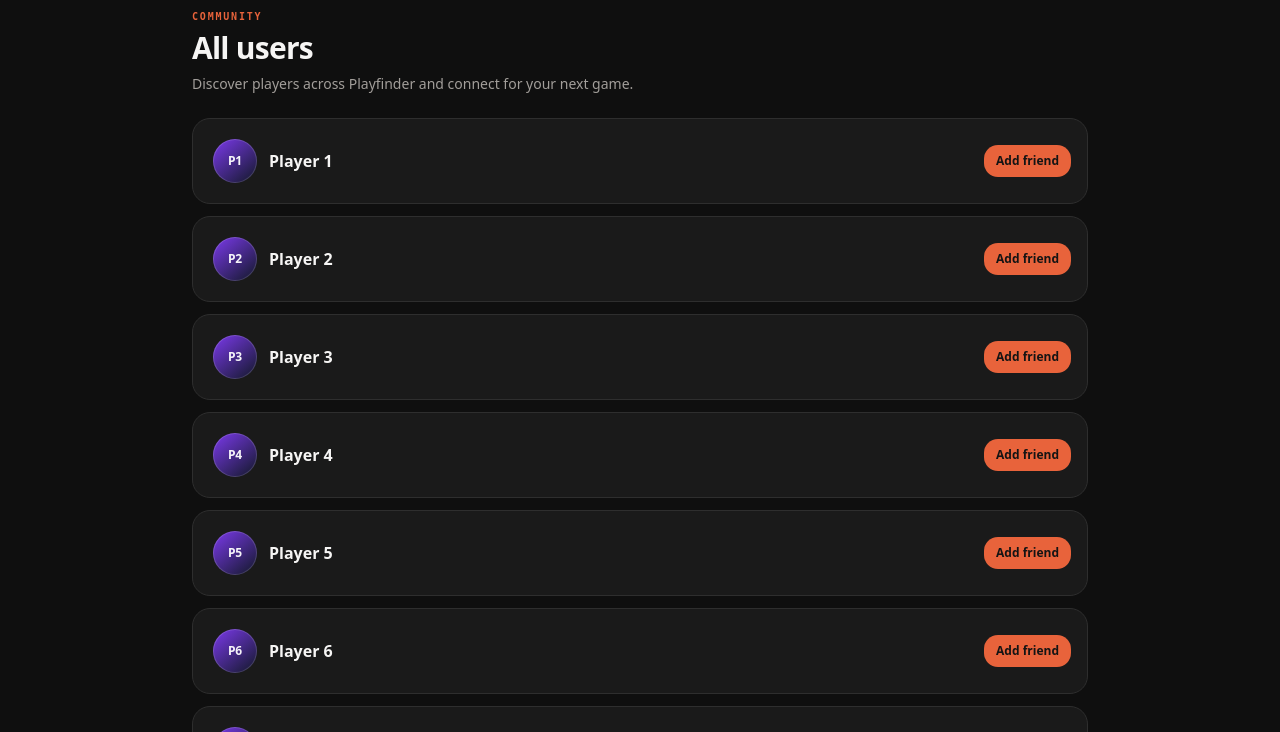
Test: All users directory › submits a friend request from a player card
The width and height of the screenshot is (1280, 732).
Click the 1st button "Add friend" at [1028, 161], box [984,145,1071,177]
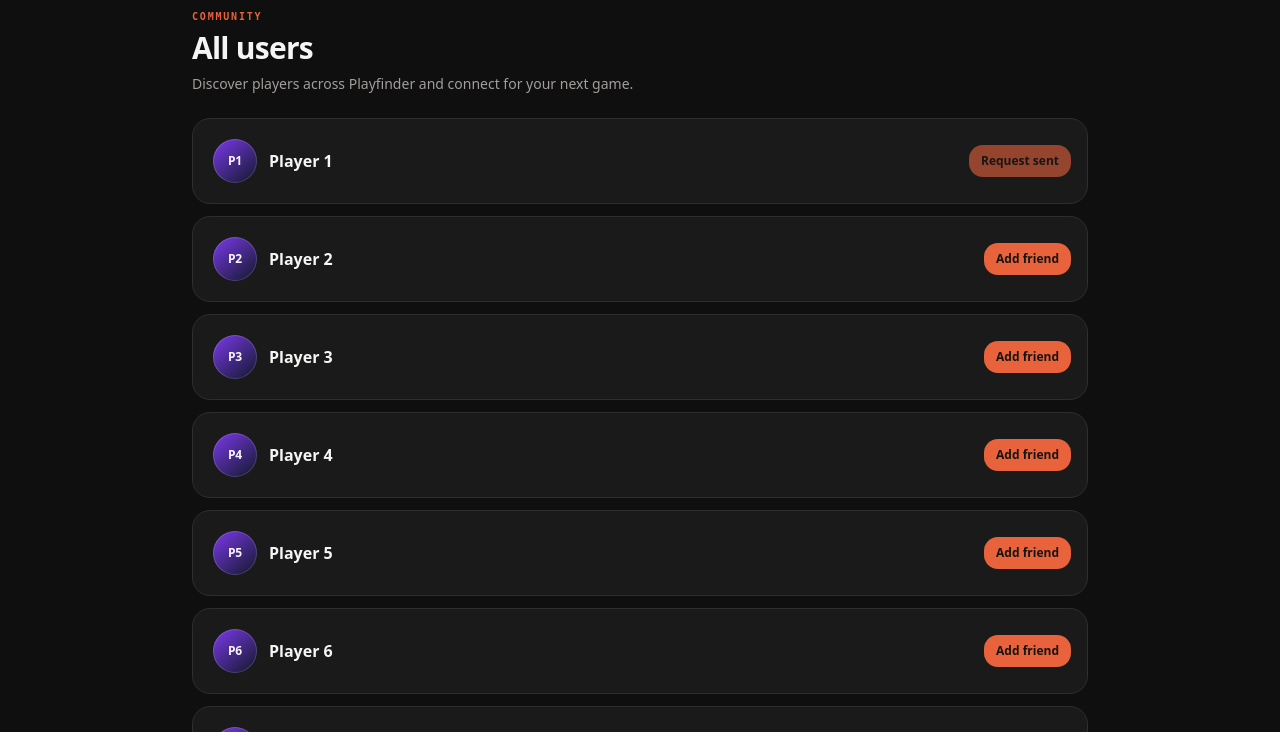
Check: the button "Request sent" is disabled, box [969,145,1071,177]
